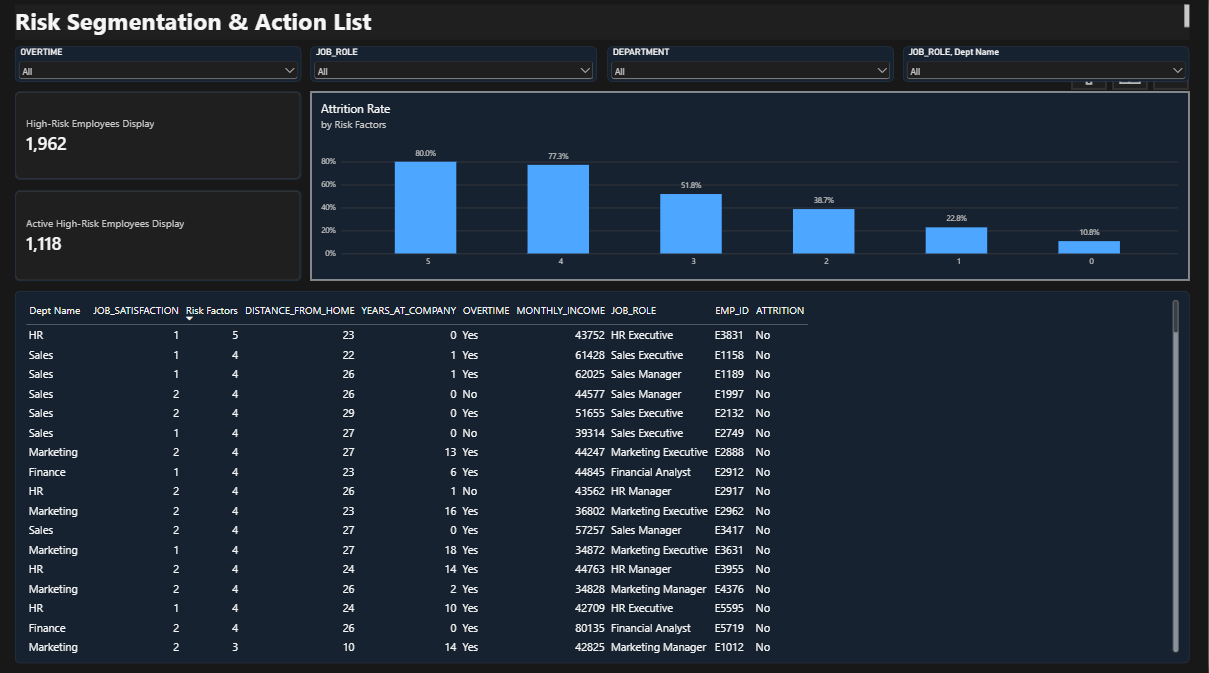

The dashboard page shown, as its layout file describes it:
{"tool":"powerbi","page":{"name":"Risk Segmentation","canvas":[1920,1080],"ordinal":2},"visuals":[{"type":"textbox","box":[24,16,1868,56],"z":0},{"type":"clusteredColumnChart","fields":{"Category":["HR_ATTRITION_FINAL.Risk Factors"],"Y":["_Measures.Attrition Rate"]},"box":[495,156,1397,300],"z":1000},{"type":"cardVisual","fields":{"Data":["HR_ATTRITION_FINAL.High-Risk Employees Display"]},"box":[24,156,455,140],"z":2000},{"type":"cardVisual","fields":{"Data":["HR_ATTRITION_FINAL.Active High-Risk Employees Display"]},"box":[24,312,455,144],"z":3000},{"type":"tableEx","fields":{"Values":["HR_ATTRITION_FINAL.Dept Name","HR_ATTRITION_FINAL.JOB_SATISFACTION","HR_ATTRITION_FINAL.Risk Factors","HR_ATTRITION_FINAL.DISTANCE_FROM_HOME","HR_ATTRITION_FINAL.YEARS_AT_COMPANY","HR_ATTRITION_FINAL.OVERTIME","HR_ATTRITION_FINAL.MONTHLY_INCOME","HR_ATTRITION_FINAL.JOB_ROLE","HR_ATTRITION_FINAL.EMP_ID","HR_ATTRITION_FINAL.ATTRITION"]},"box":[24,472,1868,592],"z":4000},{"type":"slicer","fields":{"Values":["HR_ATTRITION_FINAL.JOB_ROLE","HR_ATTRITION_FINAL.Dept Name"]},"box":[1437,84,455,56],"z":5000},{"type":"slicer","fields":{"Values":["HR_ATTRITION_FINAL.DEPARTMENT"]},"box":[966,84,455,56],"z":6000},{"type":"slicer","fields":{"Values":["HR_ATTRITION_FINAL.JOB_ROLE"]},"box":[495,84,455,56],"z":7000},{"type":"slicer","fields":{"Values":["HR_ATTRITION_FINAL.OVERTIME"]},"box":[24,84,455,56],"z":8000}]}

Visuals, with their boxes in screenshot pixels (x1, y1, x2, y2), scaled from the page's 1920x1080 canvas onto the 1209x673 screenshot:
textbox: left=15, top=10, right=1191, bottom=45
clusteredColumnChart - HR_ATTRITION_FINAL.Risk Factors x _Measures.Attrition Rate: left=312, top=97, right=1191, bottom=284
cardVisual - HR_ATTRITION_FINAL.High-Risk Employees Display: left=15, top=97, right=302, bottom=184
cardVisual - HR_ATTRITION_FINAL.Active High-Risk Employees Display: left=15, top=194, right=302, bottom=284
tableEx - HR_ATTRITION_FINAL.Dept Name x HR_ATTRITION_FINAL.JOB_SATISFACTION: left=15, top=294, right=1191, bottom=663
slicer - HR_ATTRITION_FINAL.JOB_ROLE x HR_ATTRITION_FINAL.Dept Name: left=905, top=52, right=1191, bottom=87
slicer - HR_ATTRITION_FINAL.DEPARTMENT: left=608, top=52, right=895, bottom=87
slicer - HR_ATTRITION_FINAL.JOB_ROLE: left=312, top=52, right=598, bottom=87
slicer - HR_ATTRITION_FINAL.OVERTIME: left=15, top=52, right=302, bottom=87
